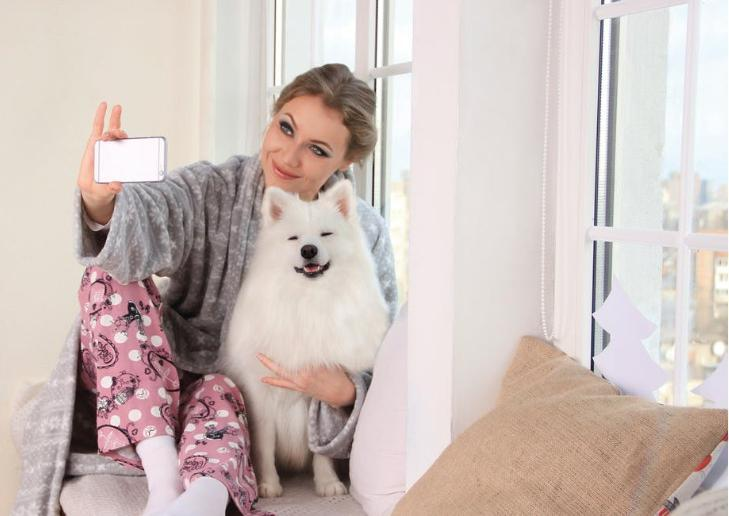face: (263, 93, 347, 194)
